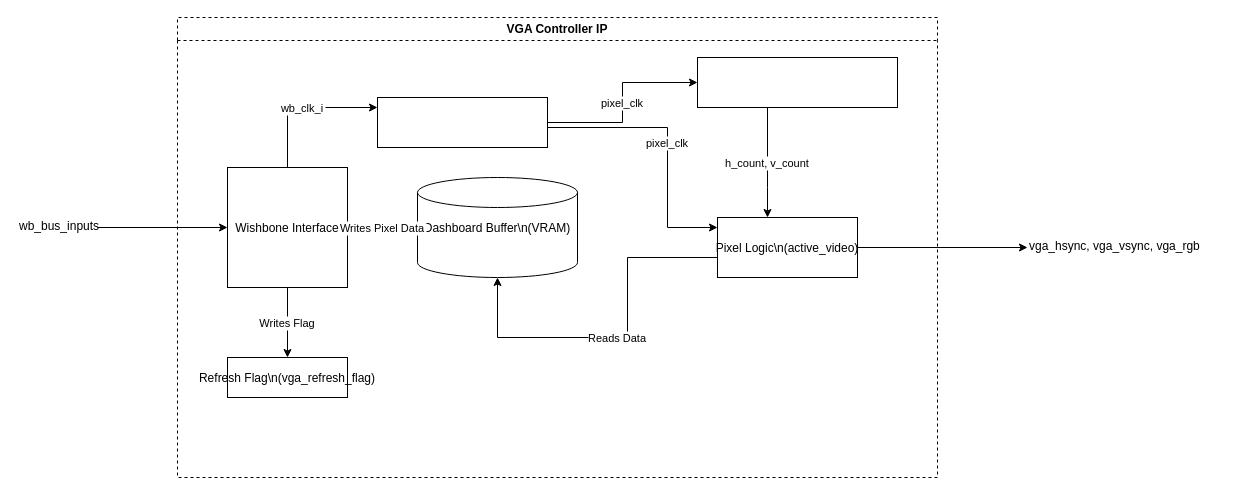
The diagram is 1244 pixels wide and 495 high, and some of its shapes have lost their labels. Here are the shapes that lost their labels. From the top down, the centre of each, then its label:
At (x=797, y=82): "Scan Counters\n(h_count, v_count)".
At (x=462, y=122): "Pixel Clock Divider\n(pixel_clk)".
